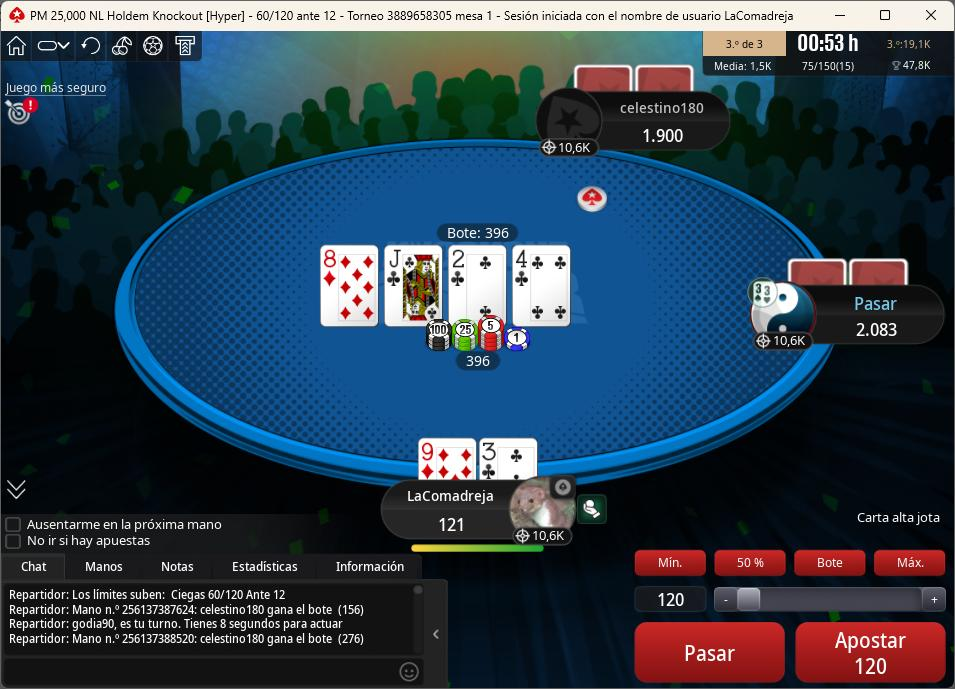ButtonCall: (628, 614, 784, 684)
ButtonMaxRaise: (871, 549, 948, 579)
ButtonMinRaise: (633, 547, 711, 580)
ButtonPotRaise: (791, 545, 863, 576)
ButtonRaise: (792, 618, 947, 684)
Dealer: (573, 183, 620, 221)
HiddenCards: (575, 67, 701, 95), (786, 259, 913, 286)
Player: (745, 284, 950, 352), (544, 90, 733, 158)
PlayerChips: (848, 322, 906, 342)
Pot: (435, 223, 520, 243)
PrincipalCards: (413, 438, 541, 484)
PrincipalCards1: (416, 434, 477, 483)
PrincipalCards2: (478, 437, 540, 481)
PrincipalPlayer: (386, 475, 587, 551)
PrincipalPlayerChips: (431, 518, 475, 538)
ShowedCards: (313, 240, 580, 332)
ShowedCards1: (318, 244, 380, 328)
ShowedCards2: (381, 243, 447, 331)
ShowedCards3: (445, 245, 512, 328)
ShowedCards4: (510, 244, 575, 329)
SmallBigBlind: (248, 3, 346, 29)
TablePot: (418, 315, 549, 381)
